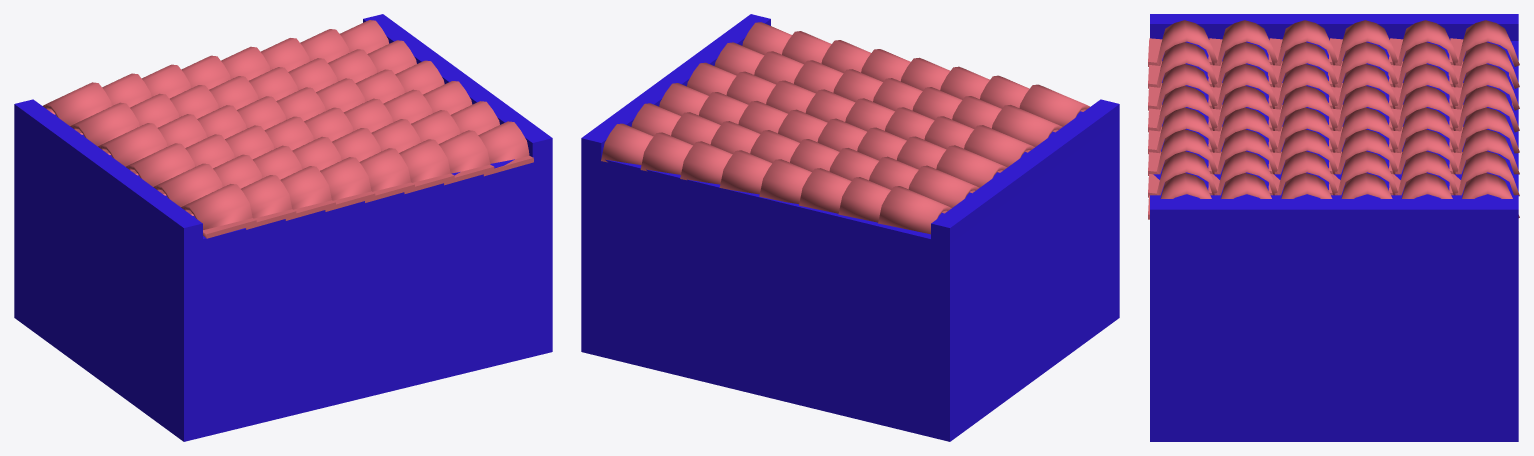
Rendered from TejadoPlanoDe3.fbx.
The picture shows the model from 3 angles, left to right: view 1: azimuth 30°, elevation 25°; view 2: azimuth 150°, elevation 25°; view 3: azimuth 270°, elevation 25°; orthographic projection. The views are drawn at different scales.
Parts seen in each view (by area): view 1: Pared_Base.013, Tejado.005; view 2: Pared_Base.013, Tejado.005; view 3: Pared_Base.013, Tejado.005.
Boxes of the visible parts, x1,y1,x2,y2 form: Pared_Base.013: (14, 14, 552, 441); Tejado.005: (43, 20, 533, 238); Pared_Base.013: (581, 14, 1119, 441); Tejado.005: (601, 22, 1090, 234); Pared_Base.013: (1150, 14, 1518, 441); Tejado.005: (1148, 20, 1519, 219).
Bounding box in the file's own units: 481 × 284 × 386.
